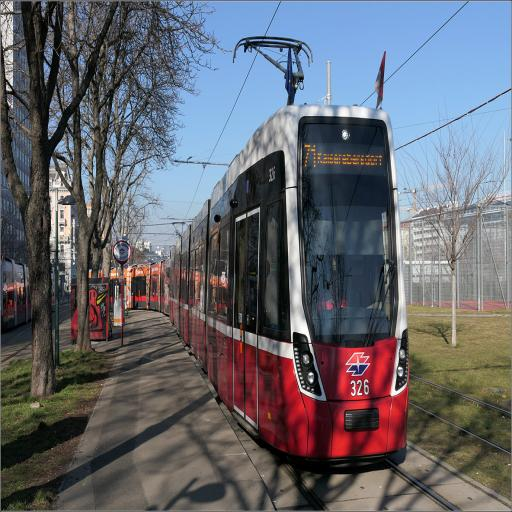Flexity: (130, 104, 408, 459)
